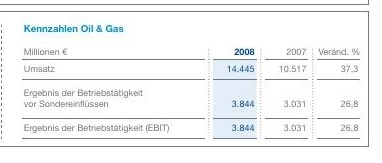table: (0, 0, 382, 163)
